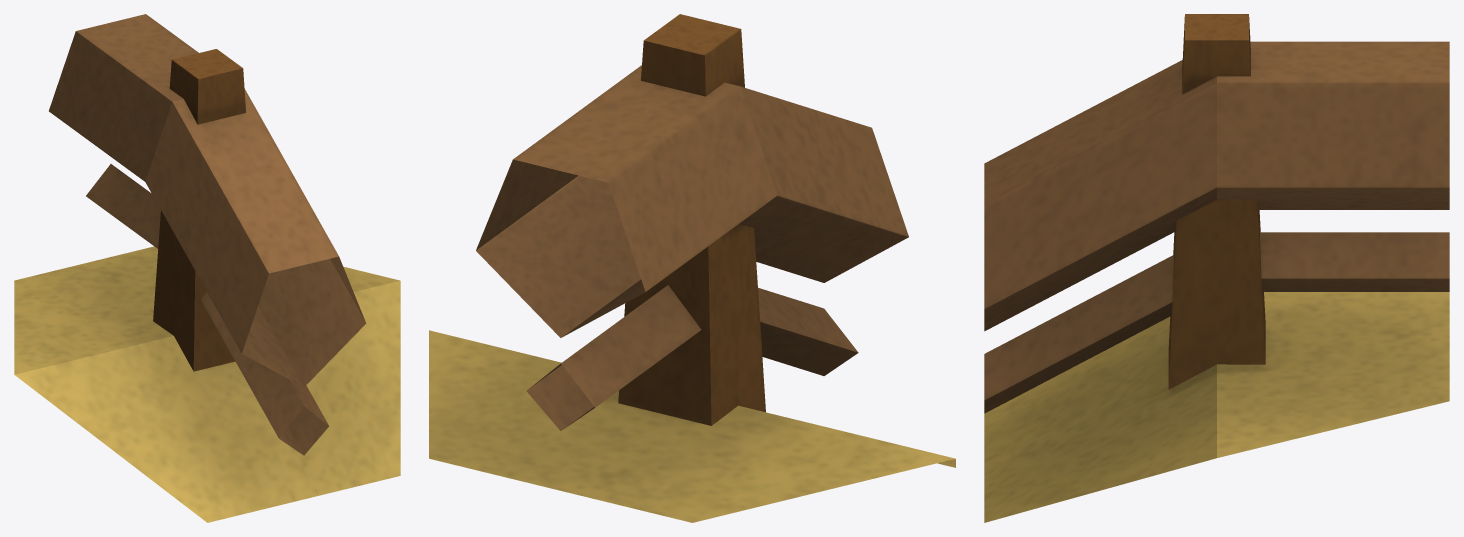
Rendered from BarriereDesert_PHC.FBX.
3 renders of one model, left to right at view 1: azimuth 30°, elevation 25°; view 2: azimuth 150°, elevation 25°; view 3: azimuth 270°, elevation 25°, orthographic. The views are drawn at different scales.
Visible parts, largest first — view 1: BarriereDesert_PHC; view 2: BarriereDesert_PHC; view 3: BarriereDesert_PHC.
Boxes of the visible parts, left/top/right/bottom form: BarriereDesert_PHC: left=14, top=14, right=400, bottom=522; BarriereDesert_PHC: left=429, top=14, right=955, bottom=522; BarriereDesert_PHC: left=984, top=14, right=1449, bottom=522.
Bounding box in the file's own units: 1 × 0.9021 × 0.8663.
